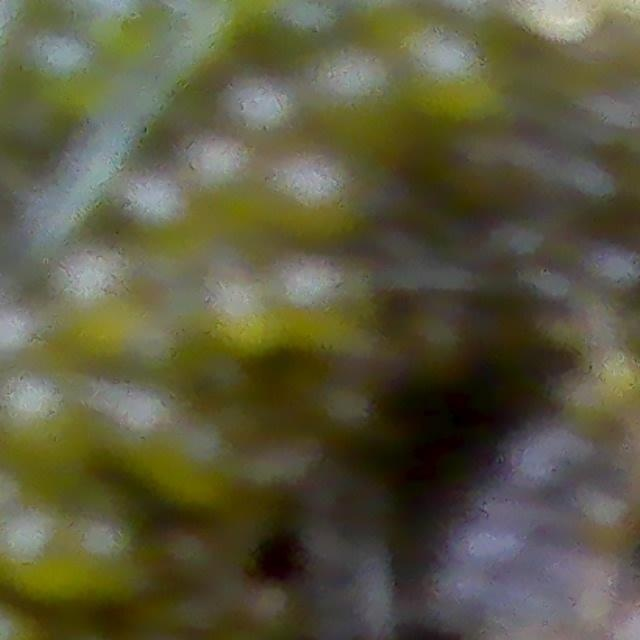SeaGrape: (316, 46, 399, 125), (190, 134, 255, 197), (27, 29, 92, 86)
